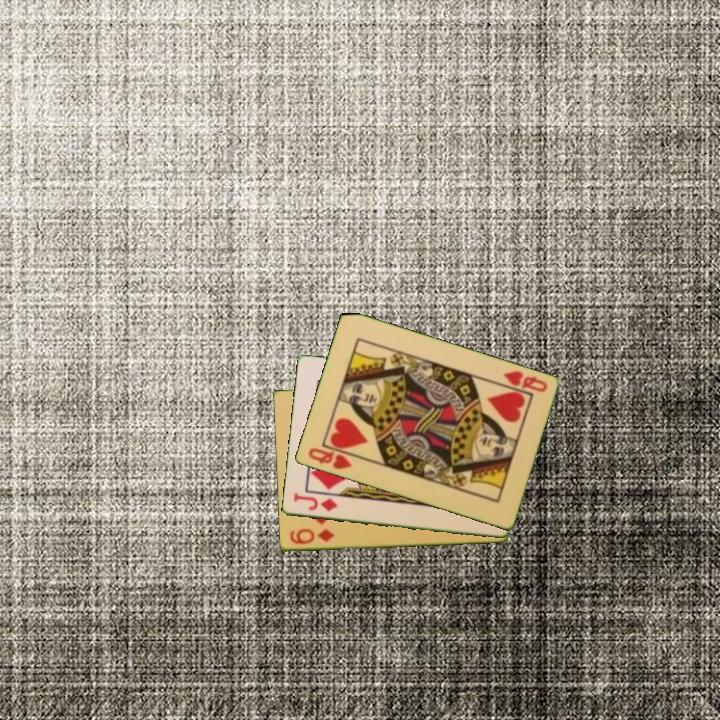6d: (286, 525, 337, 547)
Jd: (290, 490, 340, 515)
Qh: (499, 367, 550, 397), (304, 444, 355, 472)
